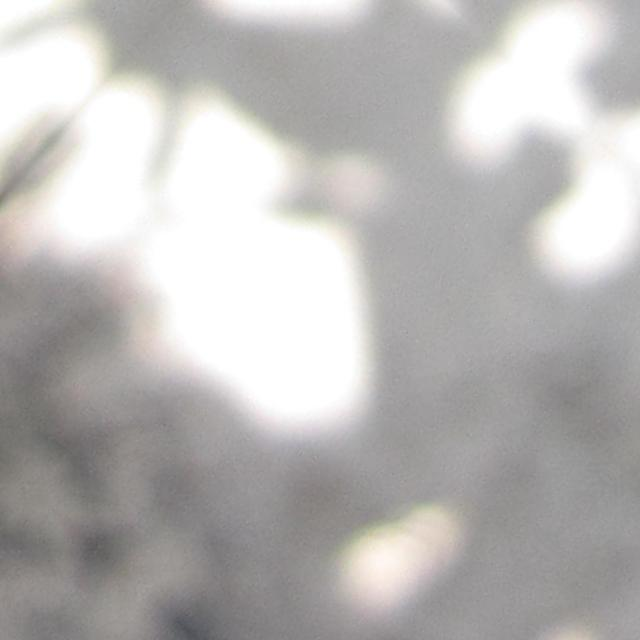Tomato leaf bacterial spot: (75, 0, 458, 260)
